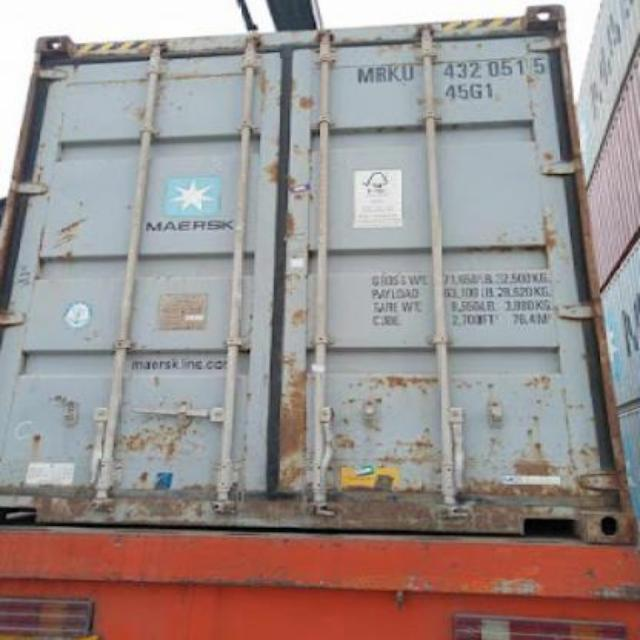0: (486, 58, 499, 78)
1: (514, 57, 528, 77)
2: (468, 60, 482, 82)
3: (456, 64, 469, 80)
4: (442, 62, 456, 78)
5: (498, 57, 514, 77), (532, 54, 544, 76)
K: (388, 62, 400, 84)
M: (356, 66, 376, 82)
R: (374, 66, 386, 80)
U: (401, 64, 414, 82)
